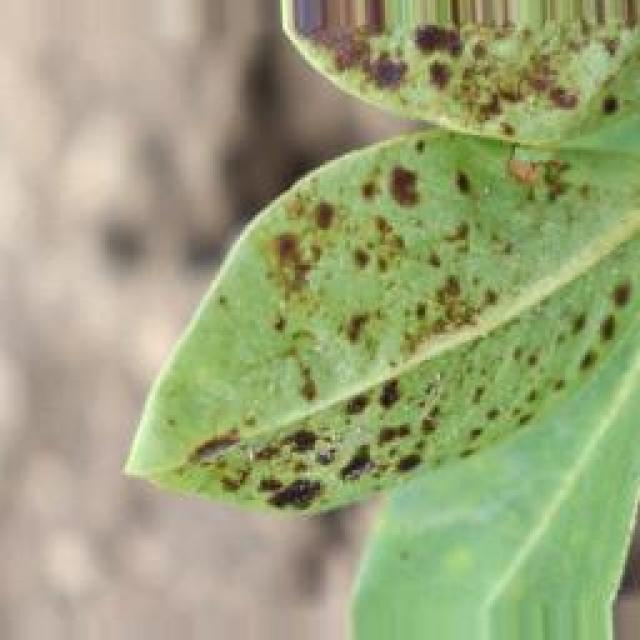Whitefly: (130, 0, 640, 532)
